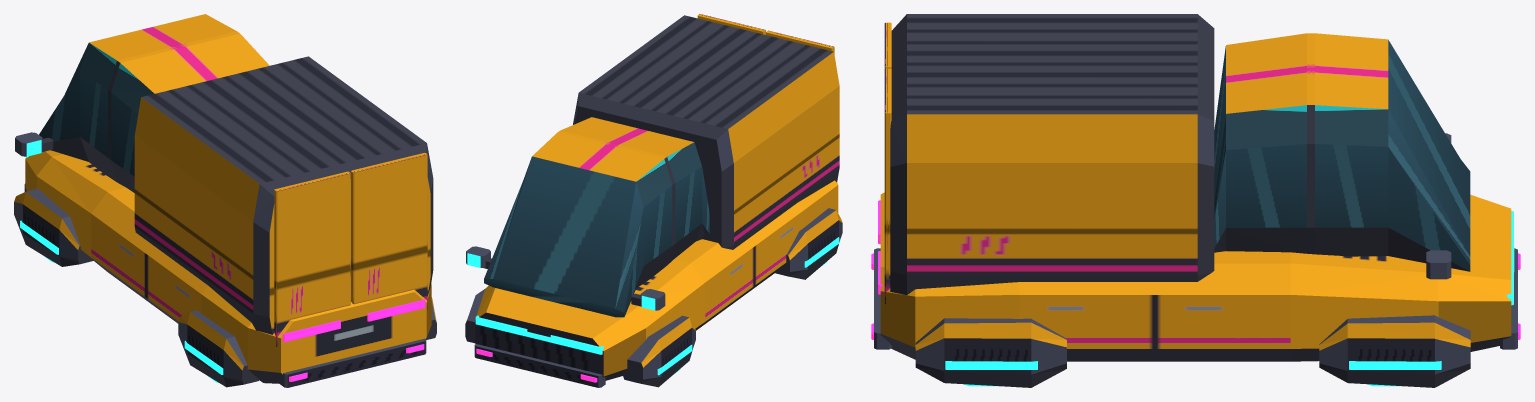
The model's file is amber_box_van.glb.
3 views of the same model, side by side, from view 1: azimuth 30°, elevation 25°; view 2: azimuth 150°, elevation 25°; view 3: azimuth 270°, elevation 25° (orthographic). The views are drawn at different scales.
Visible parts, largest first — view 1: freight_box, hull, cab_glazing, rear_door, rear_door.001, rear_pod_l, front_pod_l, bumper, mirror, rear_lens.001, rear_lens; view 2: freight_box, cab_glazing, hull, front_pod_l, rear_pod_l, bumper.001, front_pod_r, mirror, mirror.001, headlamp, headlamp.001, rear_door (+1 smaller); view 3: freight_box, cab_glazing, hull, front_pod_r, rear_pod_r, rear_door.001, induction_strip.002, induction_strip.003, mirror.001, bumper, bumper.001.
Part boxes in pixels (bbox=[...]): freight_box: bbox=[134, 56, 433, 334]; hull: bbox=[25, 150, 431, 383]; cab_glazing: bbox=[39, 14, 269, 192]; rear_door: bbox=[274, 171, 350, 346]; rear_door.001: bbox=[351, 153, 427, 309]; rear_pod_l: bbox=[178, 310, 259, 387]; front_pod_l: bbox=[14, 188, 93, 266]; bumper: bbox=[279, 338, 426, 387]; mirror: bbox=[15, 132, 42, 156]; rear_lens.001: bbox=[367, 299, 425, 321]; rear_lens: bbox=[282, 320, 340, 342]; freight_box: bbox=[573, 15, 839, 249]; cab_glazing: bbox=[484, 117, 709, 317]; hull: bbox=[475, 180, 838, 380]; front_pod_l: bbox=[622, 315, 695, 387]; rear_pod_l: bbox=[774, 208, 842, 279]; bumper.001: bbox=[474, 344, 605, 387]; front_pod_r: bbox=[465, 288, 485, 343]; mirror: bbox=[640, 289, 665, 310]; mirror.001: bbox=[466, 246, 490, 267]; headlamp: bbox=[550, 335, 603, 354]; headlamp.001: bbox=[475, 315, 527, 335]; rear_door: bbox=[766, 30, 834, 54]; freight_box: bbox=[890, 14, 1214, 295]; cab_glazing: bbox=[1214, 33, 1470, 271]; hull: bbox=[880, 192, 1511, 361]; front_pod_r: bbox=[1319, 315, 1470, 387]; rear_pod_r: bbox=[915, 318, 1066, 387]; rear_door.001: bbox=[884, 68, 891, 303]; induction_strip.002: bbox=[945, 361, 1037, 369]; induction_strip.003: bbox=[1349, 361, 1441, 369]; mirror.001: bbox=[1426, 250, 1451, 279]; bumper: bbox=[874, 248, 891, 349]; bumper.001: bbox=[1500, 248, 1517, 349].
Bounding box in the file's own units: 2.21 × 2.09 × 4.69.
3 materials, 3 textured.
